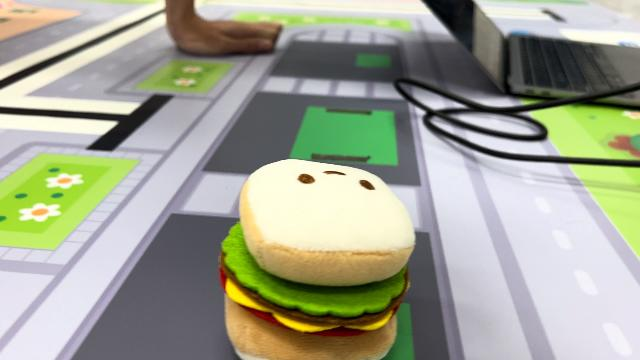sandwich: (216, 156, 418, 356)
